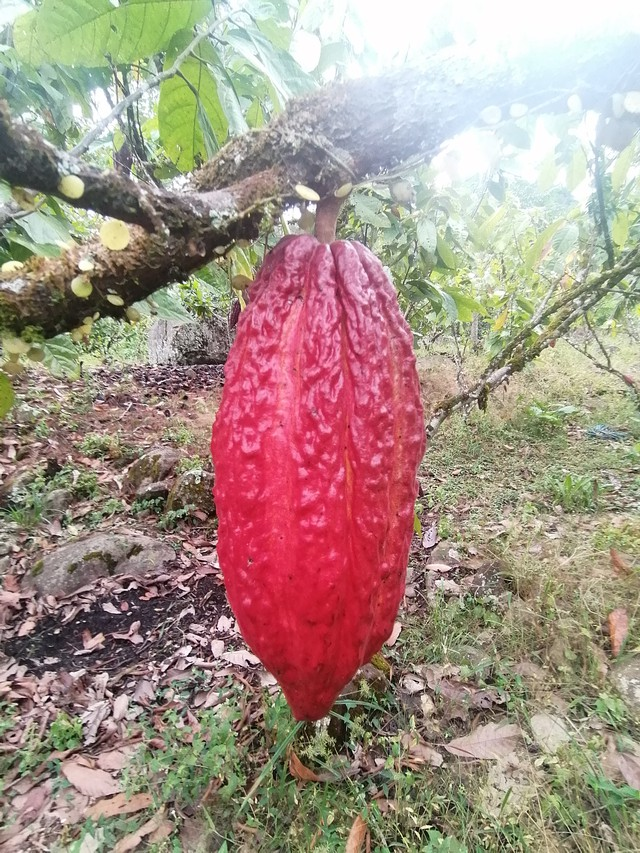Health: (197, 222, 438, 728)
